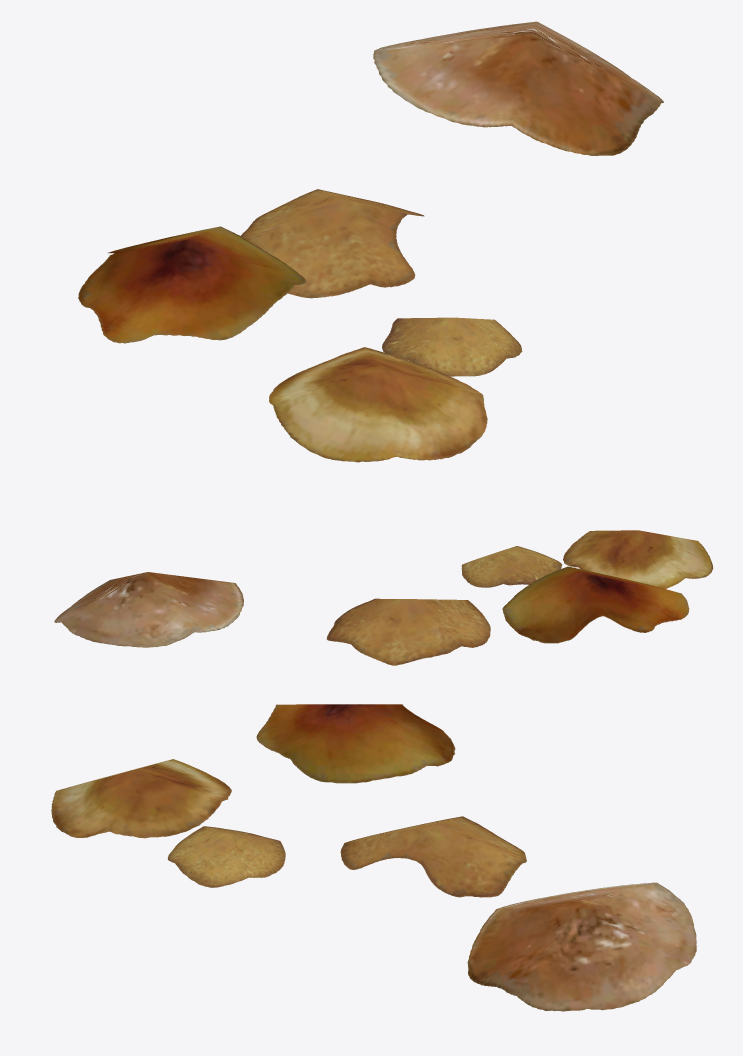
File: fngi_mushroom_clump_a2_l2.fbx
The picture shows the model from 3 angles, top to bottom: view 1: azimuth 30°, elevation 25°; view 2: azimuth 150°, elevation 25°; view 3: azimuth 270°, elevation 25°; orthographic projection. The views are drawn at different scales.
Visible parts, largest first — view 1: mesh_node; view 2: mesh_node; view 3: mesh_node.
Part boxes in pixels (x1,y1,x2,y2): mesh_node: (78,21,663,462); mesh_node: (54,530,713,665); mesh_node: (51,704,696,1011).
Bounding box in the file's own units: 1.34 × 0.1993 × 1.38.
